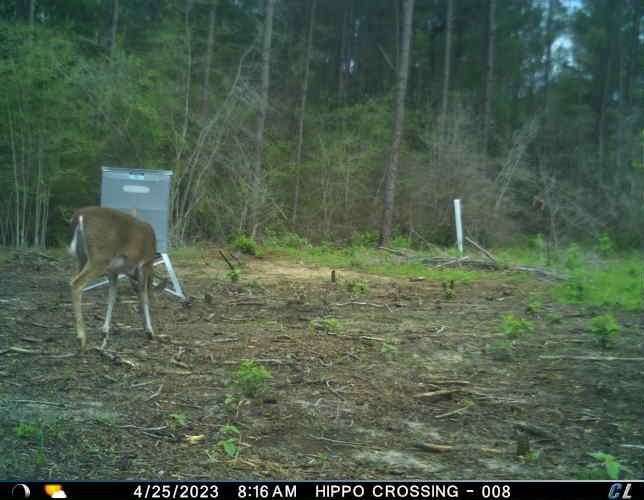Deer: (64, 204, 162, 348)
